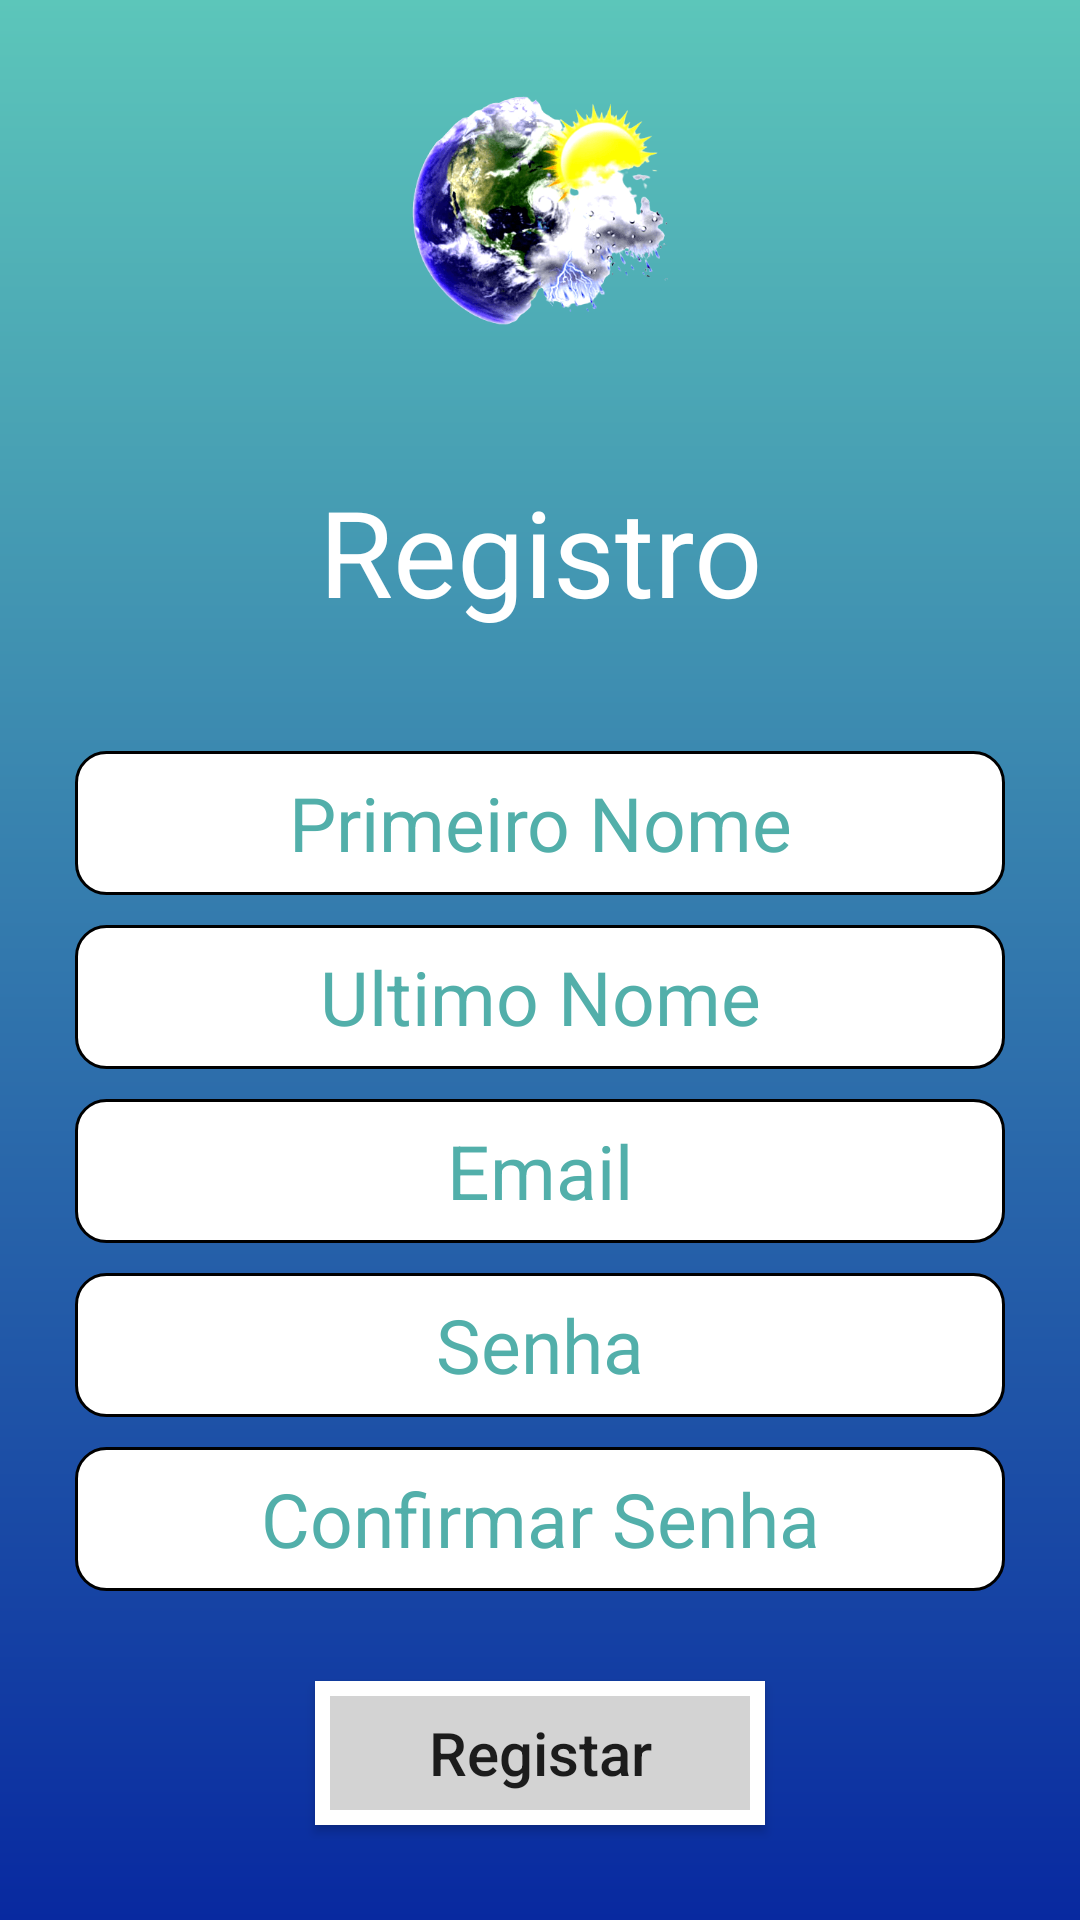

Icon bounding boxes for this 1080×1920 phone screenshot, format (x1, y1, x2, y2):
clima: (412, 96, 668, 325)
